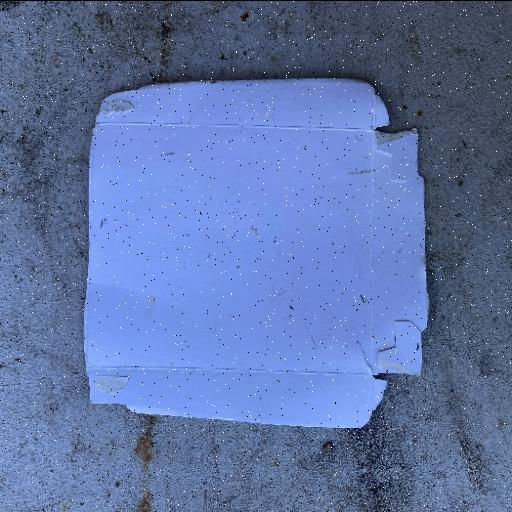Cardboard: (82, 76, 429, 430)
